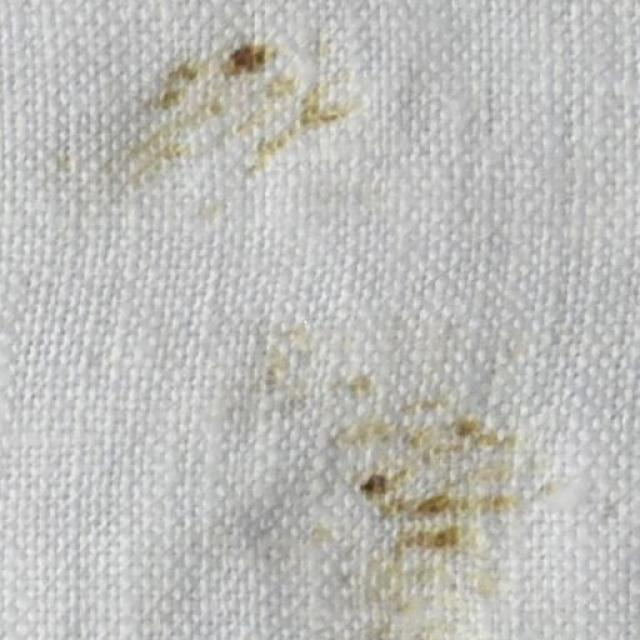Stain: (242, 302, 569, 639), (88, 0, 361, 201)
